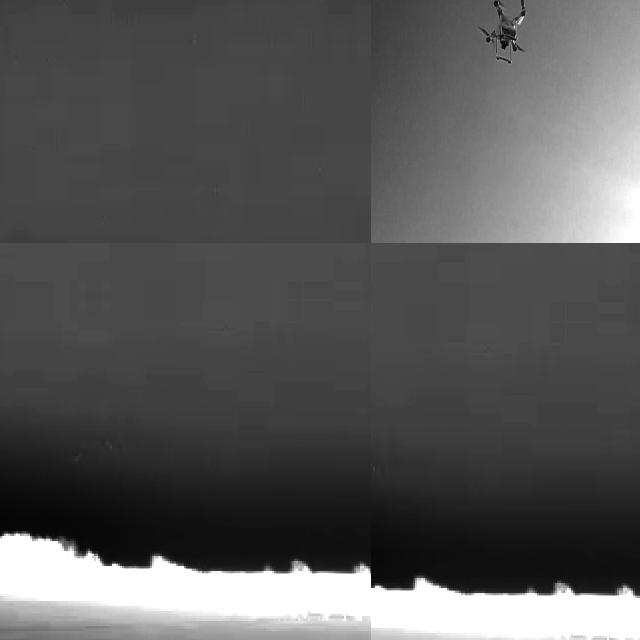0: (62, 446, 90, 476)
drone: (480, 0, 531, 71)
